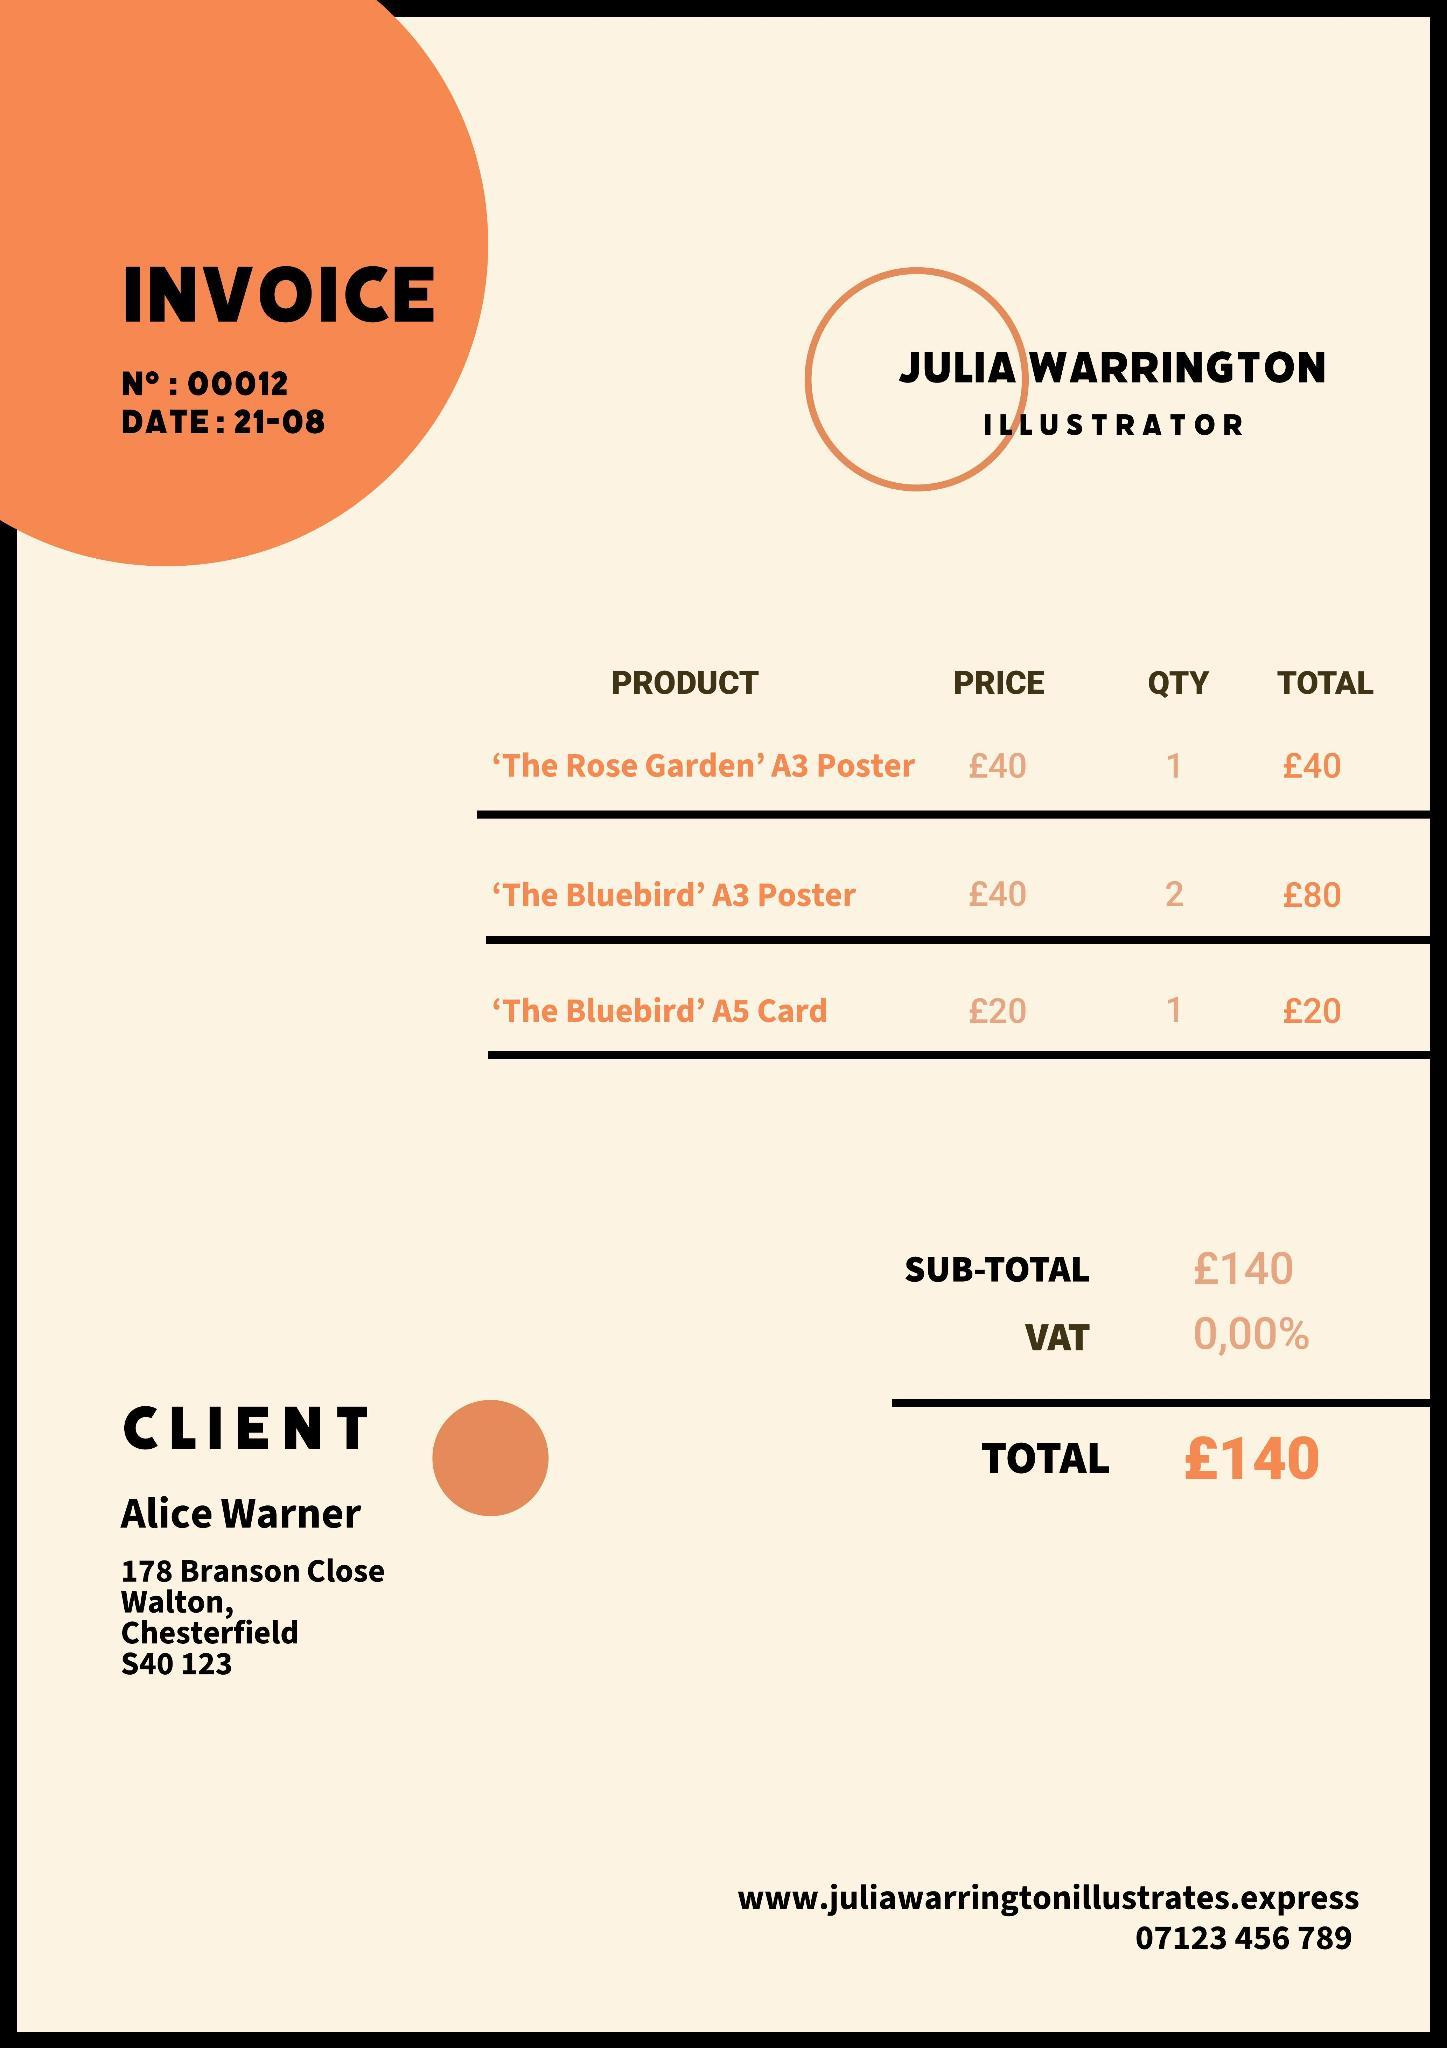ROI: (435, 651, 1422, 1060), (844, 1199, 1422, 1505), (753, 238, 1373, 518), (78, 1376, 401, 1716), (706, 1844, 1370, 1981), (108, 244, 457, 334), (116, 406, 341, 460), (114, 354, 341, 399)
